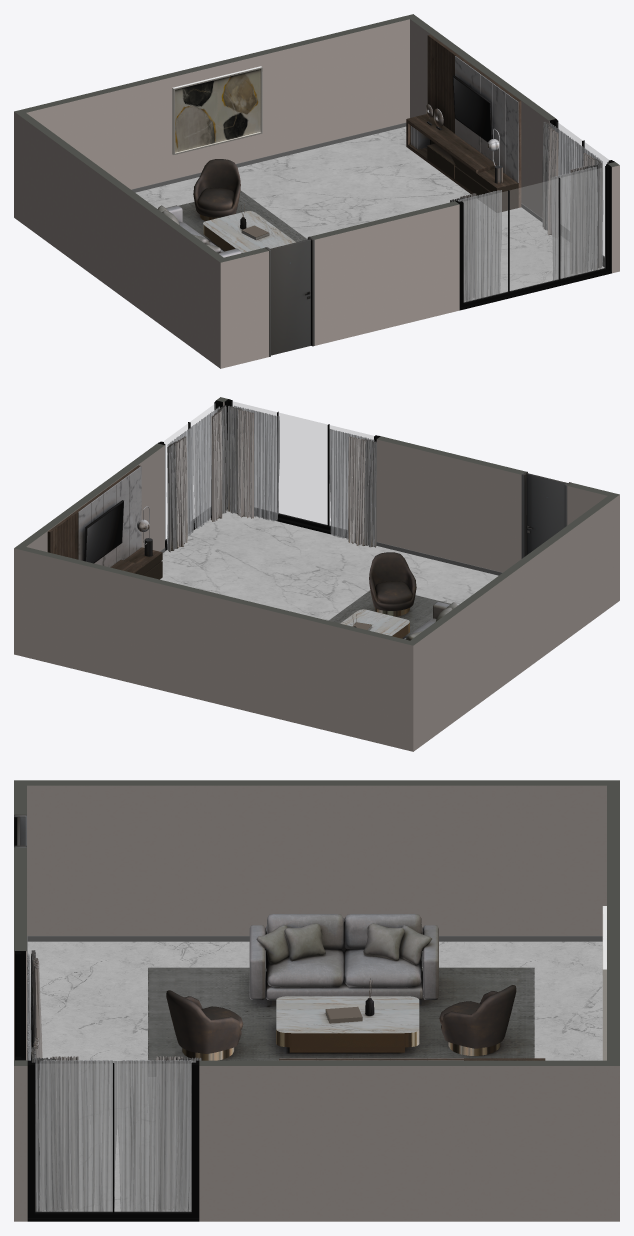
The model's file is room.glb.
3 renders of one model, top to bottom at view 1: azimuth 30°, elevation 25°; view 2: azimuth 150°, elevation 25°; view 3: azimuth 270°, elevation 25°, orthographic. The views are drawn at different scales.
Parts seen in each view (by area): view 1: w; view 2: w; view 3: w.
Part boxes in pixels (left/top/right/bottom): w: left=14, top=14, right=619, bottom=368; w: left=14, top=397, right=619, bottom=751; w: left=14, top=780, right=619, bottom=1221.
Bounding box in the file's own units: 94.49 × 24.06 × 84.67.
16 materials, 14 textured.
